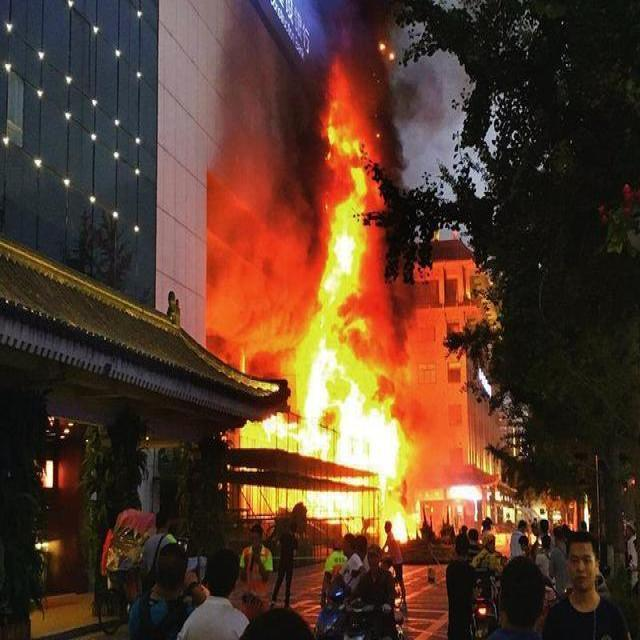Fire: (294, 192, 402, 474), (260, 407, 290, 442), (388, 507, 408, 541)
